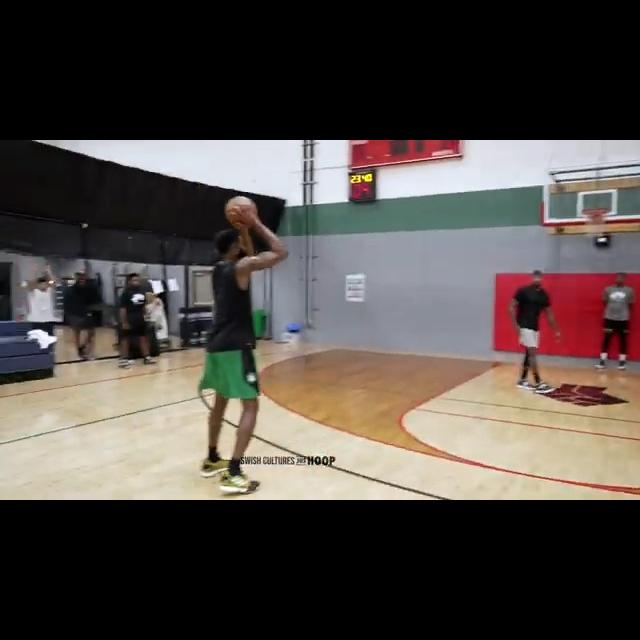basketball: (225, 196, 258, 228)
hoop: (584, 209, 609, 237)
person: (198, 227, 275, 495), (510, 267, 555, 393), (116, 273, 158, 373), (594, 267, 633, 371), (66, 269, 102, 361), (27, 273, 62, 343)
